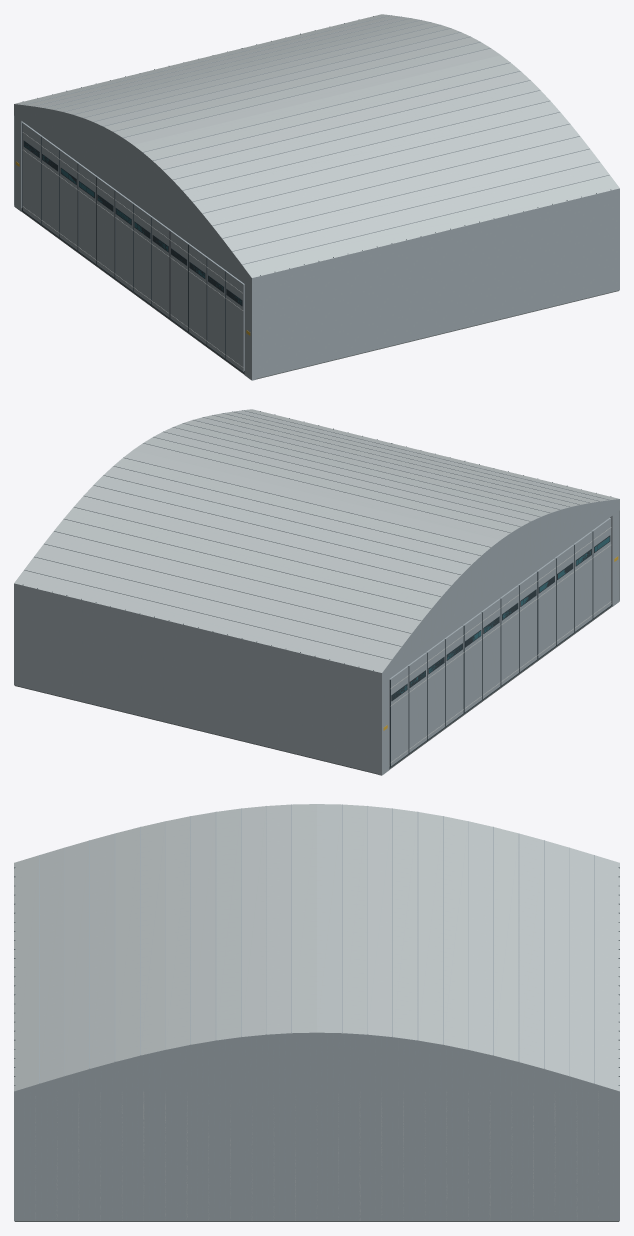
File: CMN_hangar.glb
3 renders of one model, top to bottom at view 1: azimuth 30°, elevation 25°; view 2: azimuth 150°, elevation 25°; view 3: azimuth 270°, elevation 25°, orthographic. The views are drawn at different scales.
Parts seen in each view (by area): view 1: CMN_hangar; view 2: CMN_hangar; view 3: CMN_hangar.
Boxes of the visible parts, x1,y1,x2,y2 form: CMN_hangar: (14,14,619,380); CMN_hangar: (14,409,619,775); CMN_hangar: (14,804,619,1221).
Bounding box in the file's own units: 75 × 29 × 84.
6 materials, 6 textured.
